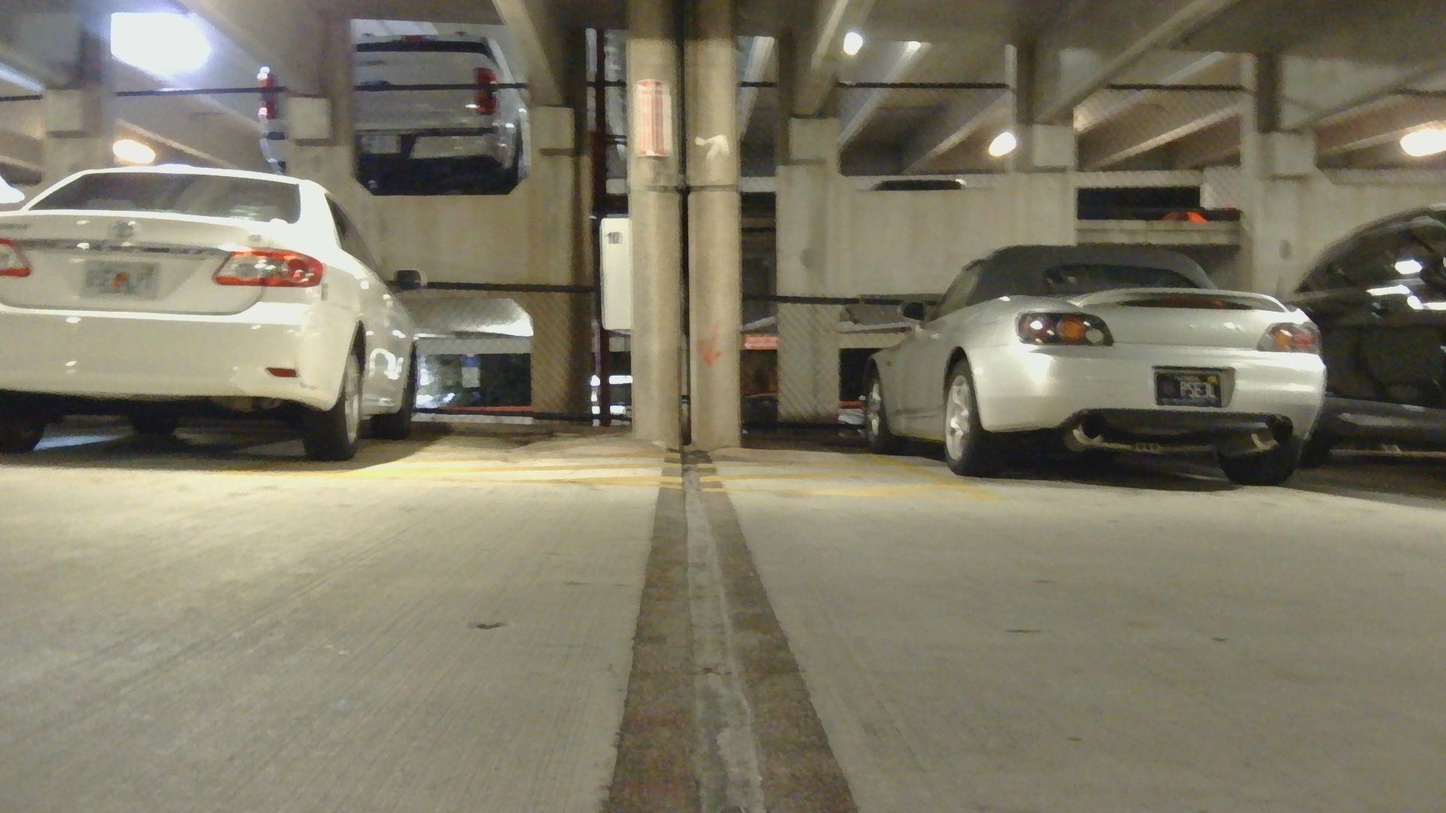occupied_spot: (0, 172, 424, 461), (859, 252, 1309, 483)
